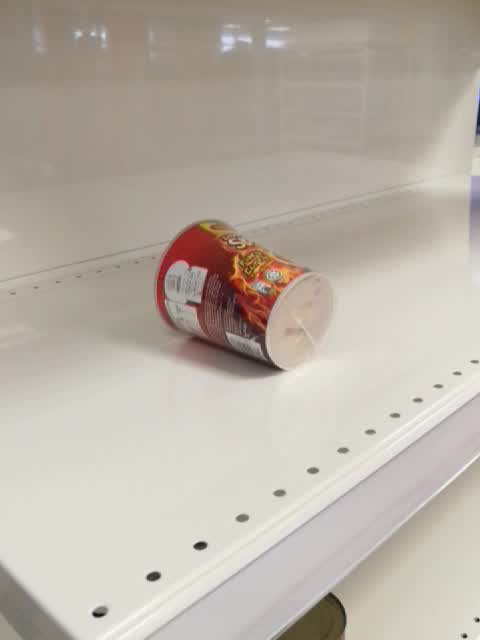maggi: (152, 219, 337, 374)
